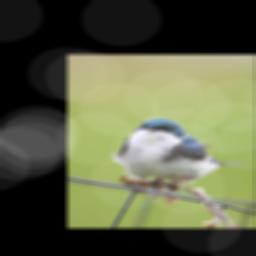Swallow: (111, 118, 249, 192)
